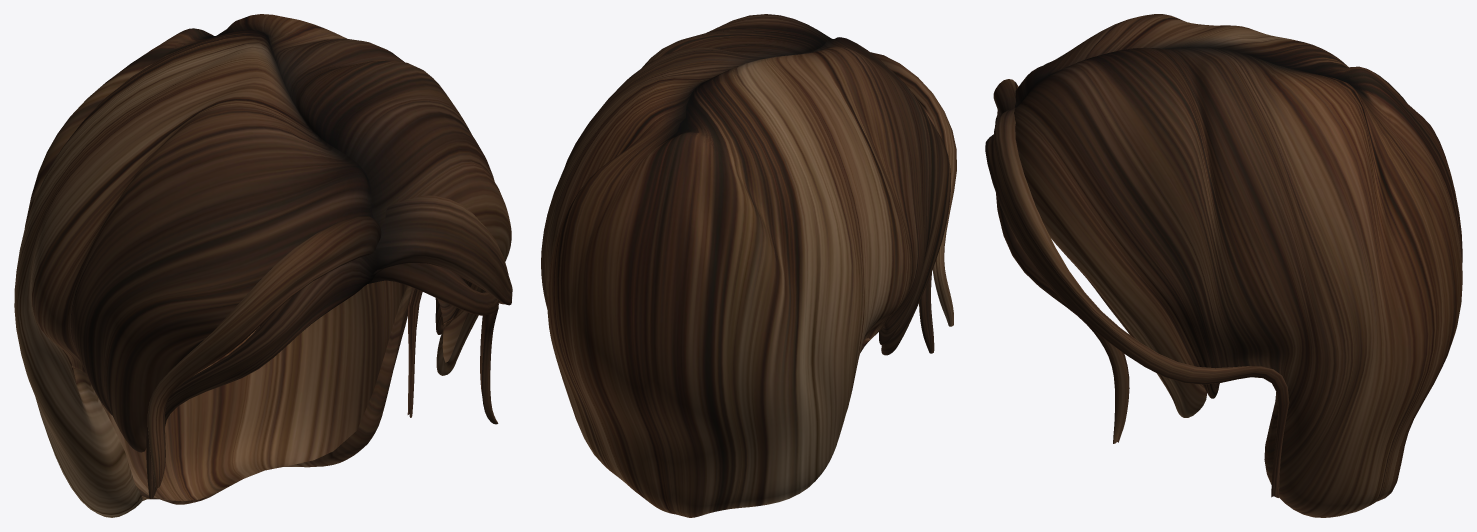
The model's file is JasonHair.fbx.
The picture shows the model from 3 angles, left to right: view 1: azimuth 30°, elevation 25°; view 2: azimuth 150°, elevation 25°; view 3: azimuth 270°, elevation 25°; orthographic projection. The views are drawn at different scales.
Visible parts, largest first — view 1: hair; view 2: hair; view 3: hair.
Boxes of the visible parts, x1=… form: hair: x1=14, y1=14, x2=512, y2=517; hair: x1=541, y1=14, x2=956, y2=517; hair: x1=985, y1=14, x2=1462, y2=517.
Size of the model in its own units: 25.2 by 29.24 by 27.77.
